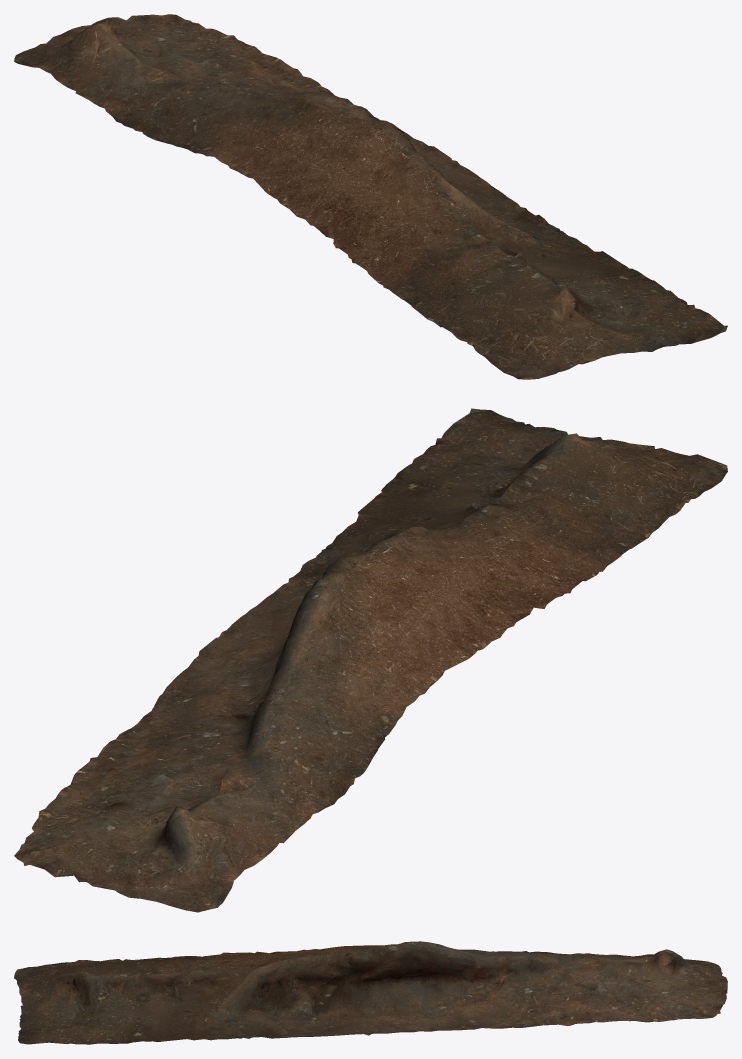
Rendered from single_root.glb.
3 views of the same model, one above another, from view 1: azimuth 30°, elevation 25°; view 2: azimuth 150°, elevation 25°; view 3: azimuth 270°, elevation 25° (orthographic). The views are drawn at different scales.
Parts seen in each view (by area): view 1: single_root; view 2: single_root; view 3: single_root.
Boxes of the visible parts, box(x1,y1,x2,y2) form: single_root: box(14, 14, 727, 379); single_root: box(14, 408, 727, 912); single_root: box(14, 941, 727, 1044).
Bounding box in the file's own units: 0.5551 × 0.1775 × 1.84.
1 material, 1 textured.
